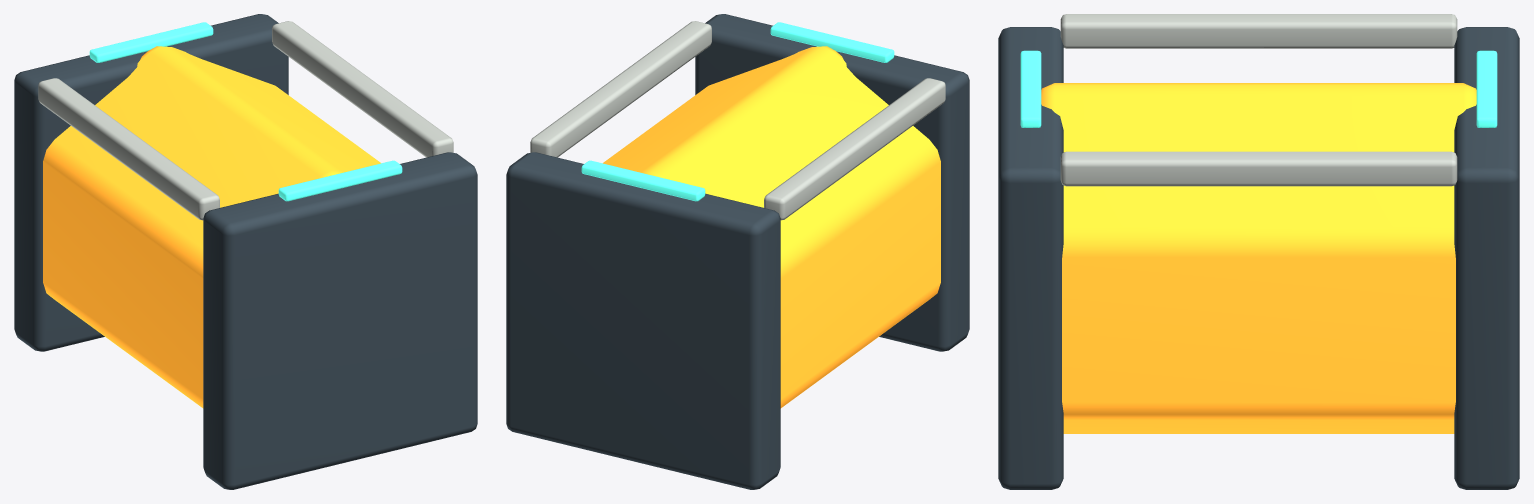
File: energy_core.glb
3 renders of one model, left to right at view 1: azimuth 30°, elevation 25°; view 2: azimuth 150°, elevation 25°; view 3: azimuth 270°, elevation 25°, orthographic. The views are drawn at different scales.
Parts seen in each view (by area): view 1: Core graphite end cap, Hexagonal amber crystal, Core graphite end cap.001, Core retaining rail, Core retaining rail.001, Core mint charge indicator, Core mint charge indicator.001; view 2: Core graphite end cap.001, Hexagonal amber crystal, Core graphite end cap, Core retaining rail, Core retaining rail.001, Core mint charge indicator.001, Core mint charge indicator; view 3: Hexagonal amber crystal, Core graphite end cap, Core graphite end cap.001, Core retaining rail.001, Core retaining rail, Core mint charge indicator, Core mint charge indicator.001.
Boxes of the visible parts, x1,y1,x2,y2 form: Core graphite end cap: (203,152,477,489); Hexagonal amber crystal: (43,46,380,408); Core graphite end cap.001: (14,14,288,351); Core retaining rail: (38,78,219,220); Core retaining rail.001: (272,21,453,157); Core mint charge indicator: (278,160,402,201); Core mint charge indicator.001: (89,22,213,62); Core graphite end cap.001: (506,152,780,489); Hexagonal amber crystal: (603,46,940,408); Core graphite end cap: (695,14,969,351); Core retaining rail: (764,78,945,220); Core retaining rail.001: (530,21,711,157); Core mint charge indicator.001: (581,160,705,201); Core mint charge indicator: (770,22,894,62); Hexagonal amber crystal: (1041,83,1476,433); Core graphite end cap: (998,27,1063,489); Core graphite end cap.001: (1454,27,1519,489); Core retaining rail.001: (1060,151,1457,186); Core retaining rail: (1060,14,1457,48); Core mint charge indicator: (1020,50,1041,127); Core mint charge indicator.001: (1476,50,1497,127).
Bounding box in the file's own units: 1.2 × 1.29 × 1.76.
